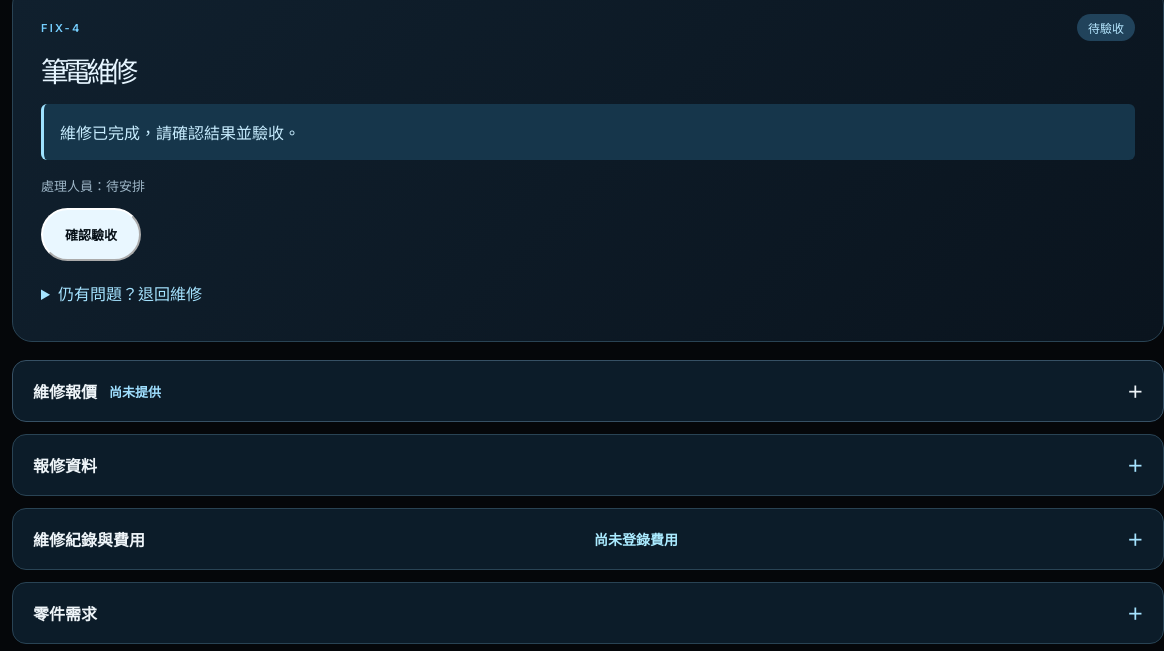
keeps acceptance visible and expands supplemental details only when requested
This screenshot has width=1164, height=651.
expect the button "確認驗收" is shown: met, box top-left (41, 208), bottom-right (141, 261)
expect the text "完整問題說明" is not shown: met
Click the heading "報修資料": (65, 466) top-left (33, 456), bottom-right (97, 476)
(page scrolled)
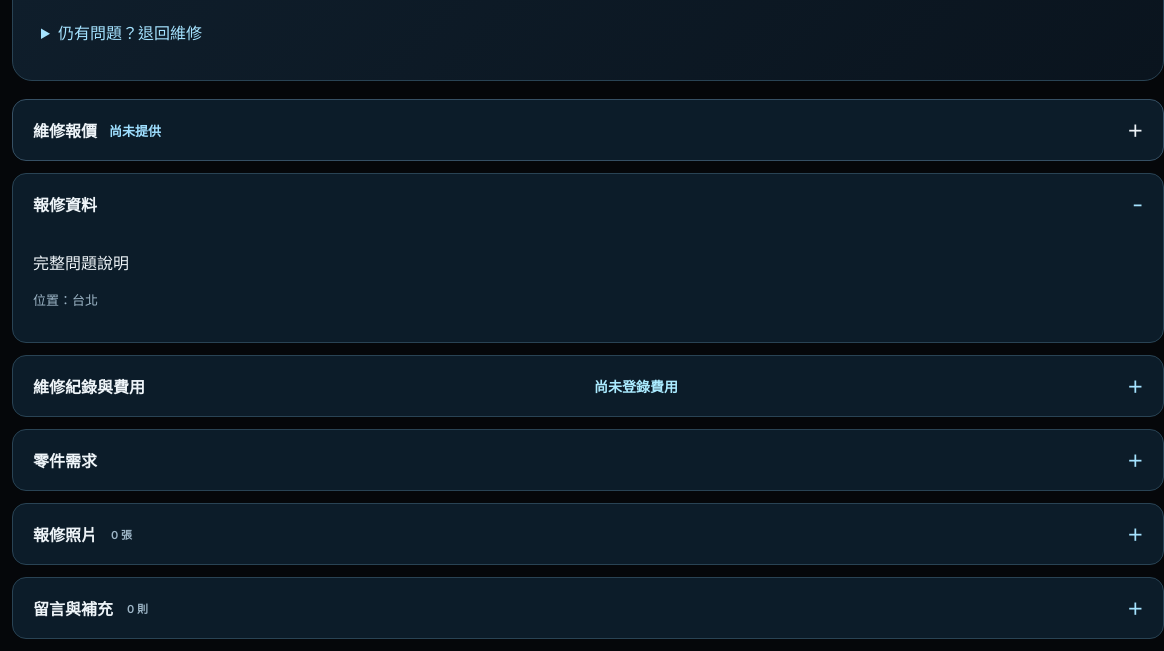
expect the text "已確認相容" is not shown: met
expect the text "完整問題說明" is shown: met, box top-left (33, 253), bottom-right (129, 273)
Click the heading "零件需求": (65, 461) top-left (33, 451), bottom-right (97, 471)
(page scrolled)
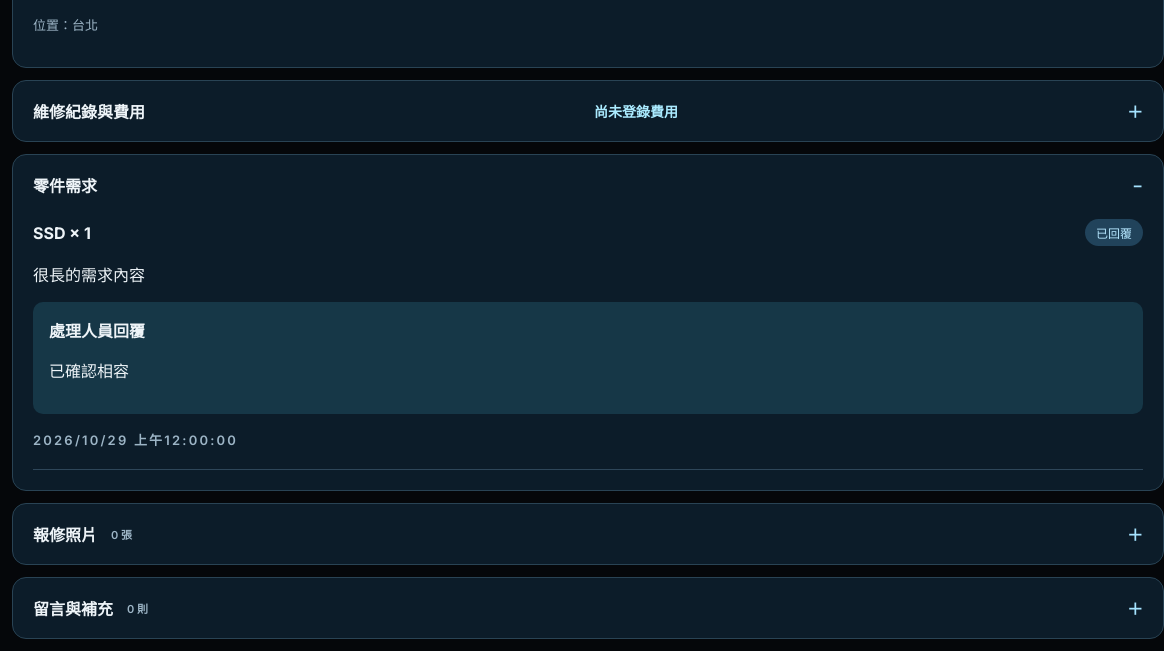
expect the text "已確認相容" is shown: met, box top-left (49, 361), bottom-right (129, 381)
